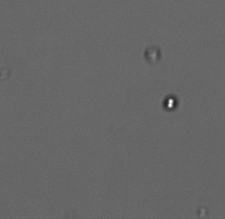Dead Cell: (142, 46, 165, 64)
Living Cell: (162, 94, 180, 111)
